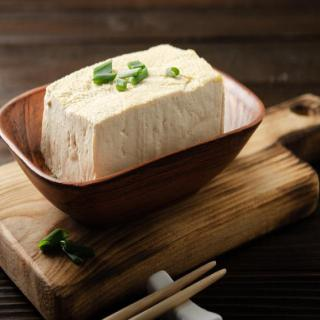Tahu: (24, 41, 249, 191)
